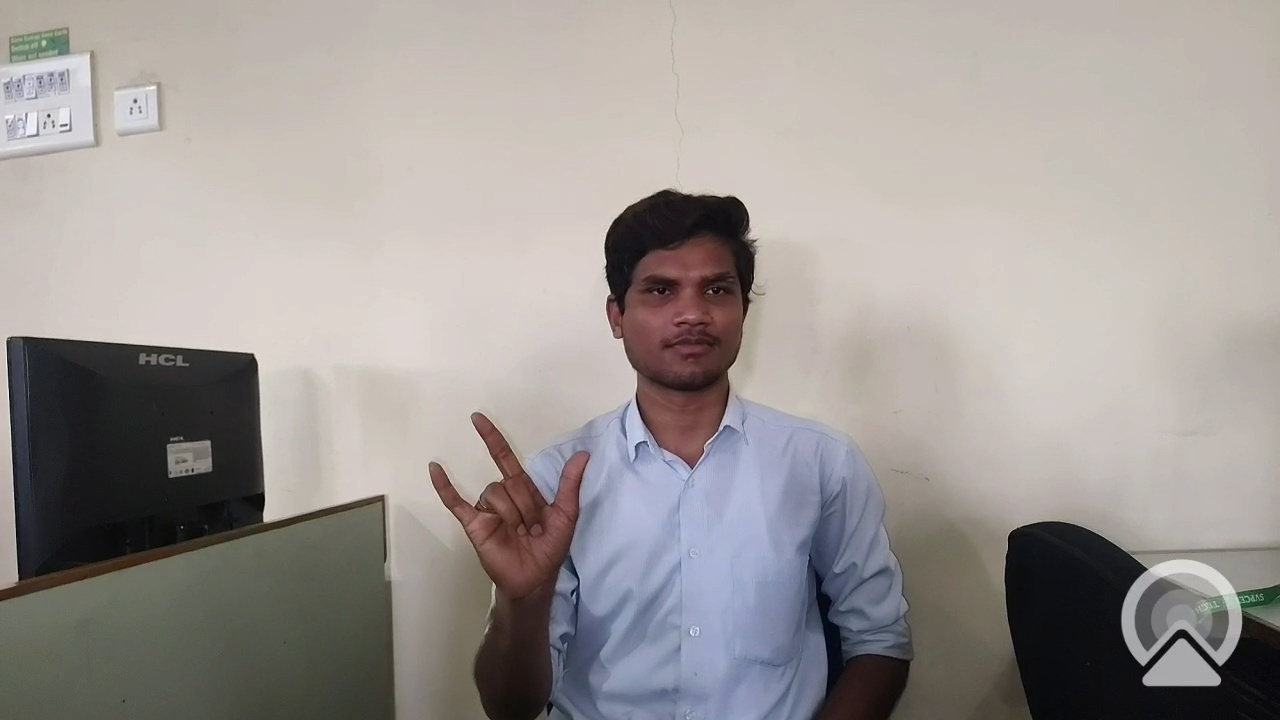I love you: (407, 402, 628, 604)
